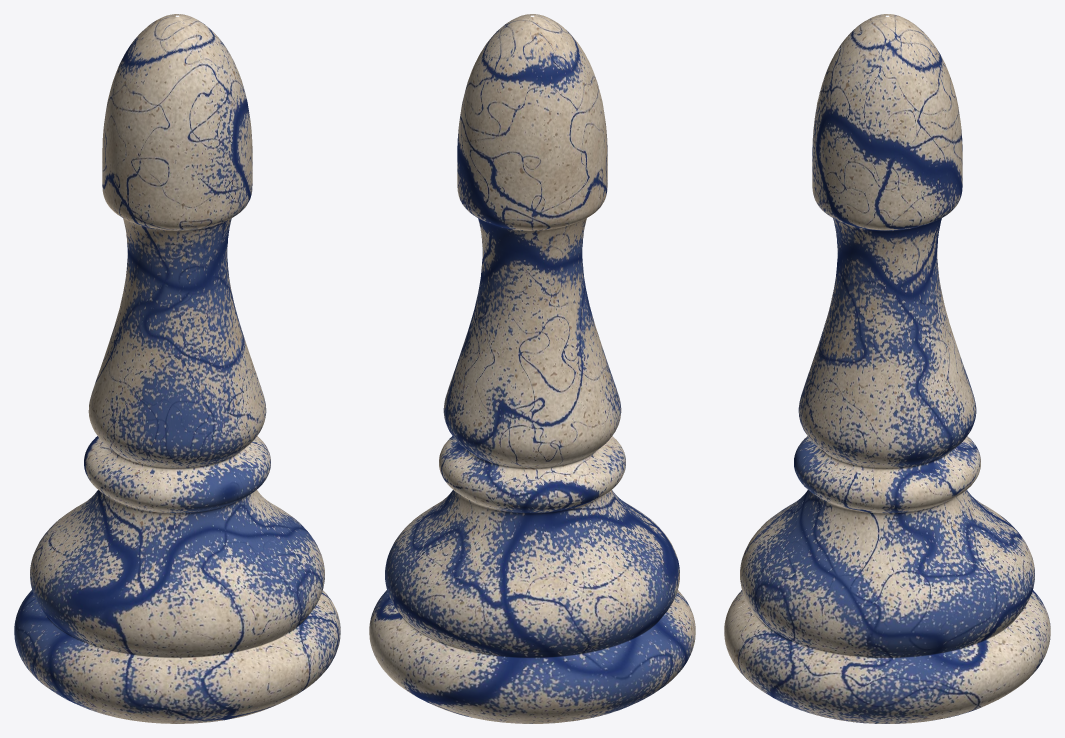
The model's file is queen-white-hd.glb.
3 views of the same model, side by side, from view 1: azimuth 30°, elevation 25°; view 2: azimuth 150°, elevation 25°; view 3: azimuth 270°, elevation 25° (orthographic).
Visible parts, largest first — view 1: Cobalt Vein white queen; view 2: Cobalt Vein white queen; view 3: Cobalt Vein white queen.
Boxes of the visible parts, x1,y1,x2,y2 form: Cobalt Vein white queen: [14, 14, 340, 723]; Cobalt Vein white queen: [369, 14, 695, 723]; Cobalt Vein white queen: [724, 14, 1050, 723].
Size of the model in its own units: 0.6285 by 1.39 by 0.6288.
1 material, 1 textured.
